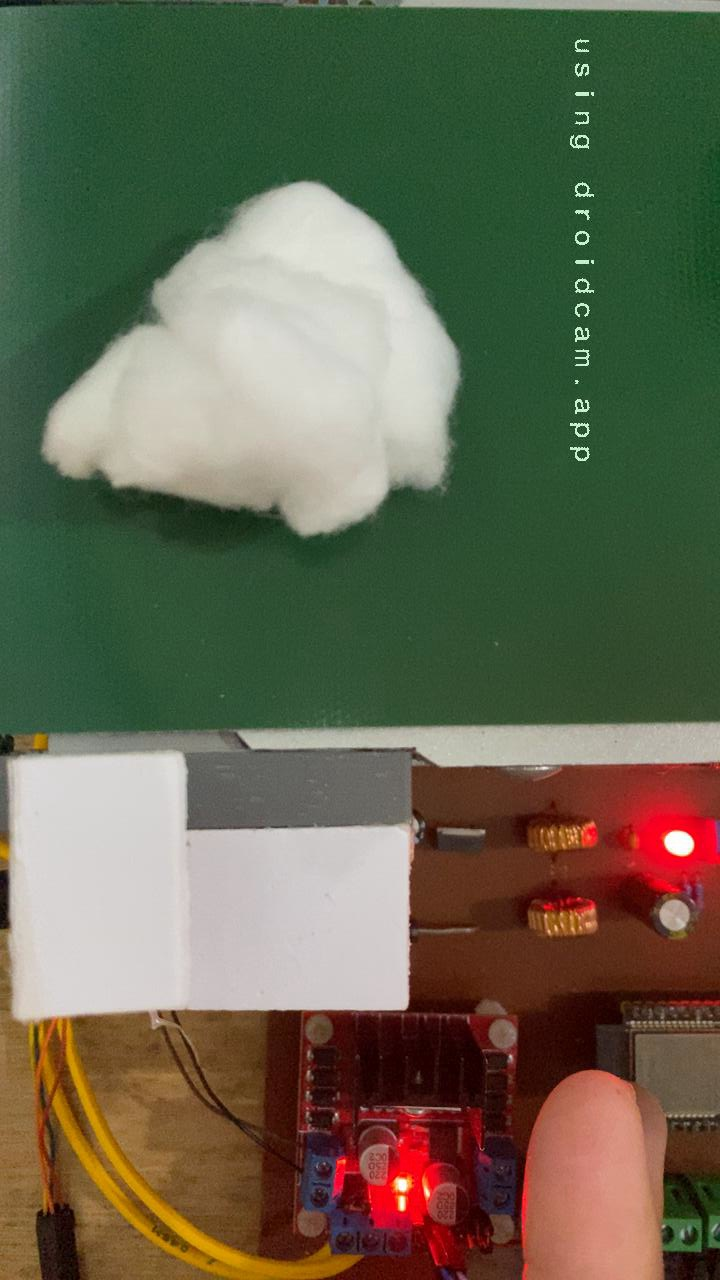cotton: (36, 175, 468, 542)
